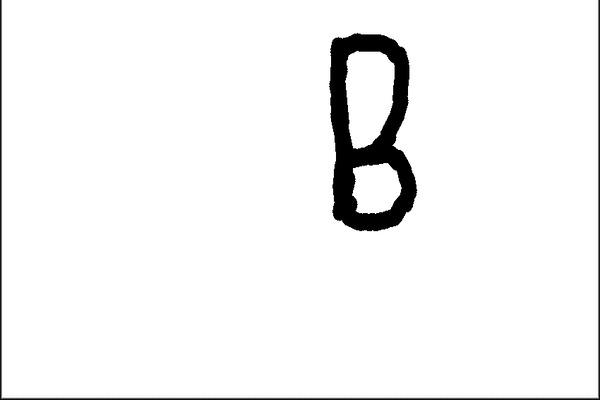B: (320, 26, 422, 238)
